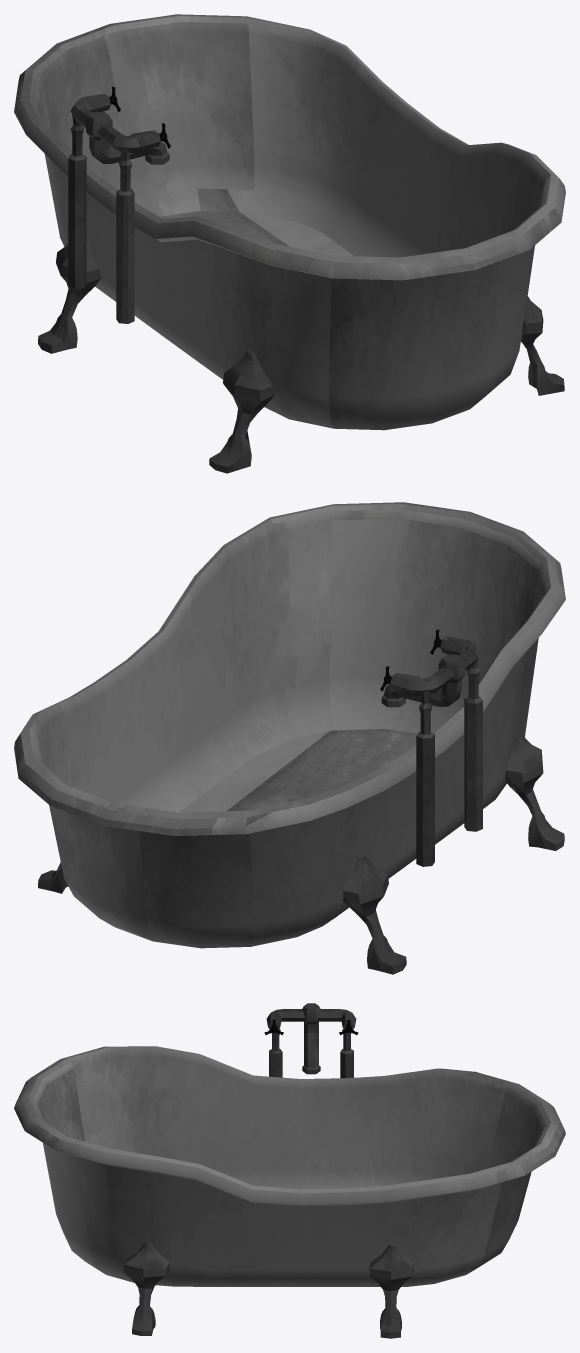
File: kuvet.fbx
3 renders of one model, top to bottom at view 1: azimuth 30°, elevation 25°; view 2: azimuth 150°, elevation 25°; view 3: azimuth 270°, elevation 25°, orthographic. The views are drawn at different scales.
Visible parts, largest first — view 1: küvet, musluk bacak.002, arka bacak, ön bacak; view 2: küvet, musluk bacak.002, ön bacak, arka bacak; view 3: küvet, musluk bacak.002, ön bacak, arka bacak.
Boxes of the visible parts, x1,y1,x2,y2 form: küvet: (14,14,565,430); musluk bacak.002: (68,86,170,323); arka bacak: (209,296,564,473); ön bacak: (38,242,100,353); küvet: (14,502,565,948); musluk bacak.002: (380,629,482,866); ön bacak: (38,853,406,974); arka bacak: (505,732,564,850); küvet: (14,1046,565,1286); musluk bacak.002: (264,1003,358,1078); ön bacak: (369,1244,413,1338); arka bacak: (123,1242,169,1335).
Bounding box in the file's own units: 249 × 176 × 434.
Materials: 3 (2 with a texture image).
